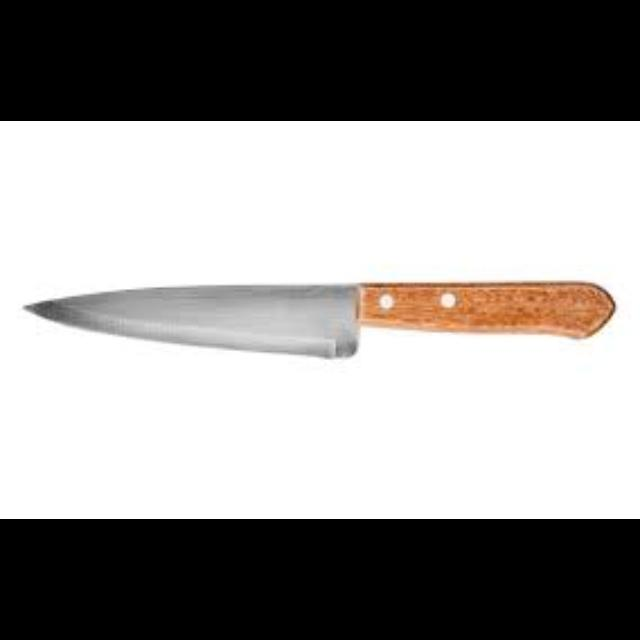Knife: (21, 279, 615, 357)
